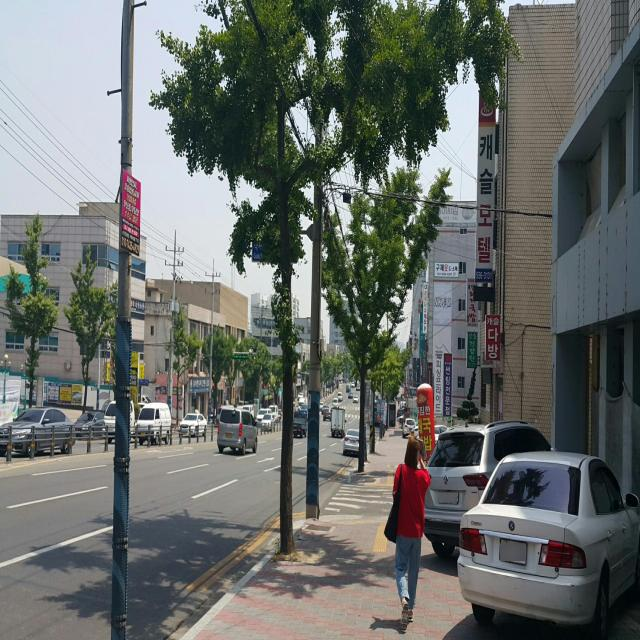횡단보도: (324, 484, 394, 513)
